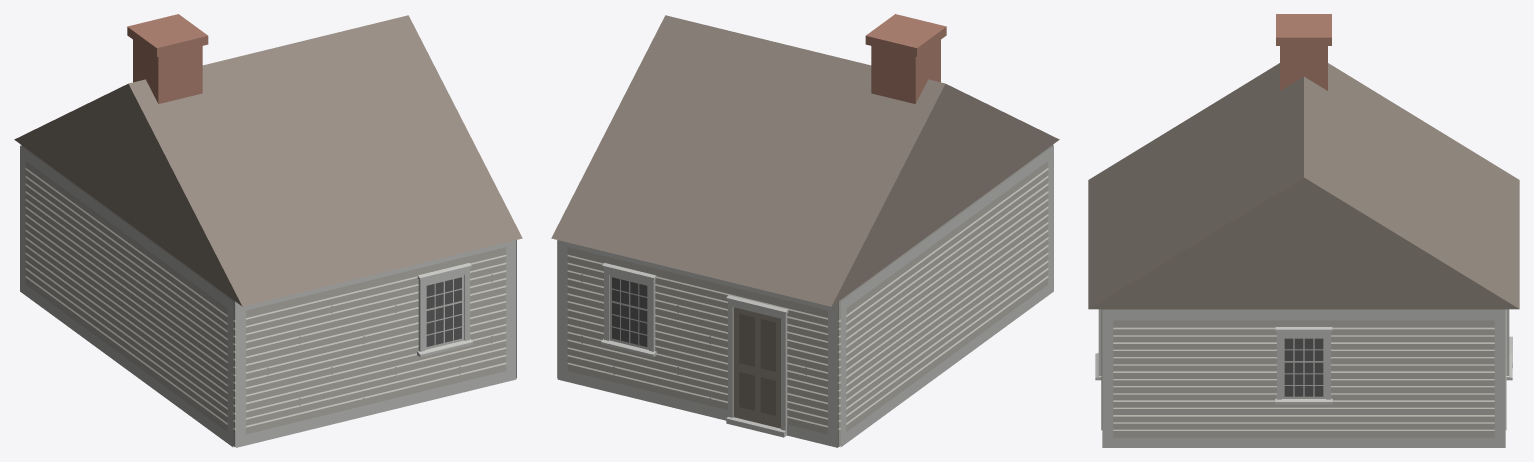
File: recon_1835_blk_randolph_franklin_d3_04__inferred_1835.glb
The picture shows the model from 3 angles, left to right: view 1: azimuth 30°, elevation 25°; view 2: azimuth 150°, elevation 25°; view 3: azimuth 270°, elevation 25°; orthographic projection. The views are drawn at different scales.
Visible parts, largest first — view 1: recon_1835_blk_randolph_franklin_d3_04__inferred_1835; view 2: recon_1835_blk_randolph_franklin_d3_04__inferred_1835; view 3: recon_1835_blk_randolph_franklin_d3_04__inferred_1835.
Boxes of the visible parts, x1,y1,x2,y2 form: recon_1835_blk_randolph_franklin_d3_04__inferred_1835: (14, 14, 522, 447); recon_1835_blk_randolph_franklin_d3_04__inferred_1835: (551, 14, 1059, 447); recon_1835_blk_randolph_franklin_d3_04__inferred_1835: (1088, 14, 1519, 447).
Size of the model in its own units: 5.49 by 5.98 by 7.54.
